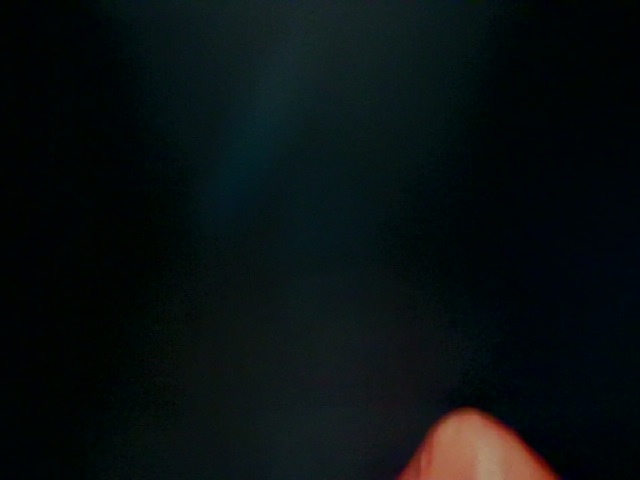CYLJ: (134, 159, 502, 415)
